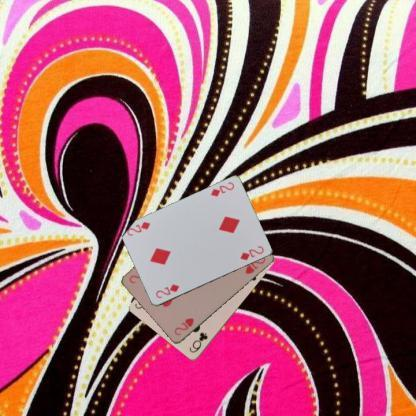2d: (153, 282, 180, 300), (208, 180, 235, 198)
2h: (172, 315, 196, 337)
6c: (186, 330, 209, 354)
